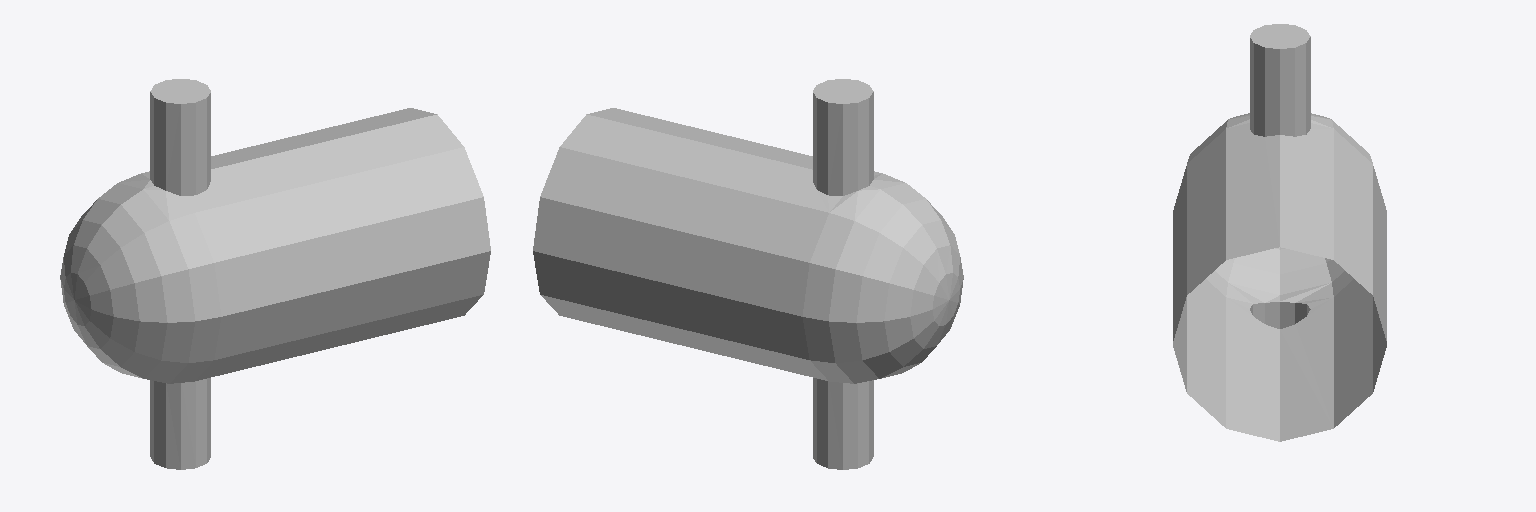
Rendered from WallGunPt2.obj.
The picture shows the model from 3 angles: view 1: azimuth 30°, elevation 25°; view 2: azimuth 150°, elevation 25°; view 3: azimuth 270°, elevation 25°; orthographic projection.
Visible parts, largest first — view 1: Cube.002_Cube.002_Material.001; view 2: Cube.002_Cube.002_Material.001; view 3: Cube.002_Cube.002_Material.001.
Part boxes in pixels (x1,y1,x2,y2): Cube.002_Cube.002_Material.001: (60, 79, 490, 469); Cube.002_Cube.002_Material.001: (533, 79, 963, 469); Cube.002_Cube.002_Material.001: (1173, 24, 1386, 441).
Size of the model in its own units: 3.9 by 3.76 by 2.